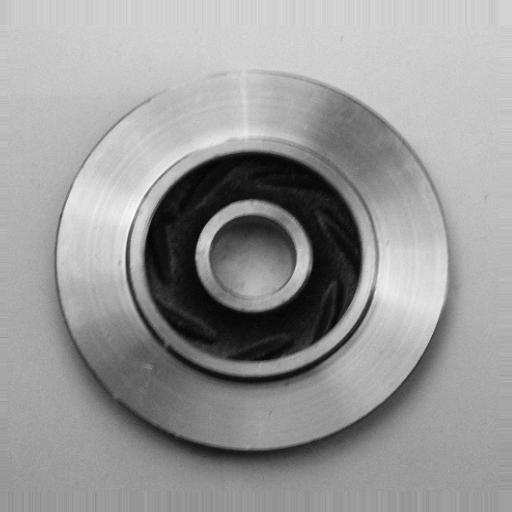unpolished_casting: (49, 68, 450, 461)
